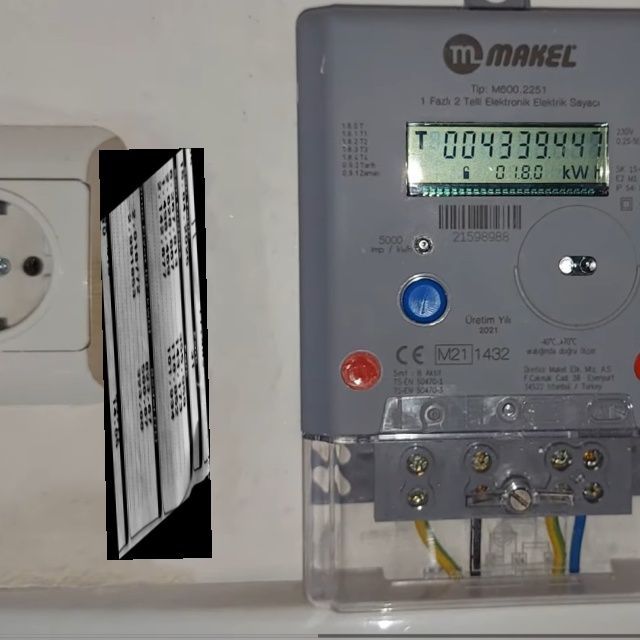electricity-bill: (99, 148, 212, 560)
